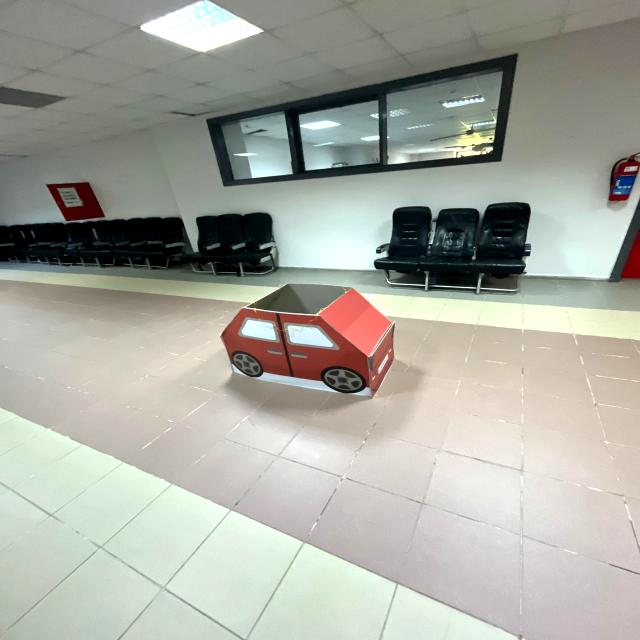red_car: (206, 277, 416, 404)
